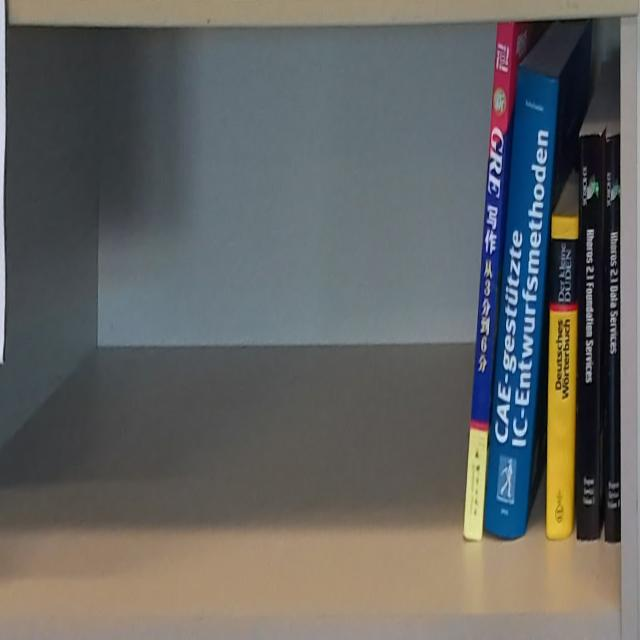Book Spine: (484, 57, 561, 540), (463, 24, 518, 541), (577, 132, 603, 541), (547, 218, 579, 540), (603, 132, 620, 541)
